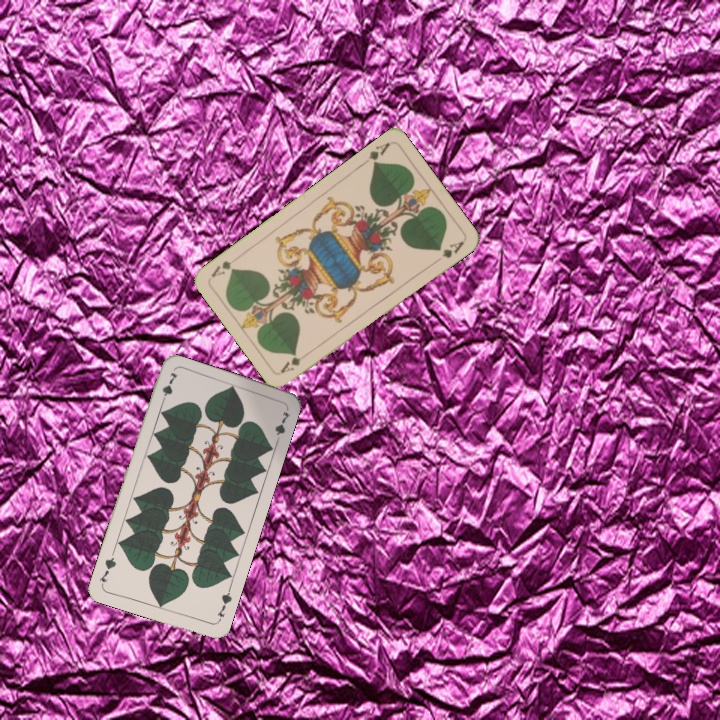G7: (157, 368, 180, 408), (212, 585, 235, 624)
GA: (358, 138, 393, 169), (276, 348, 312, 376)
